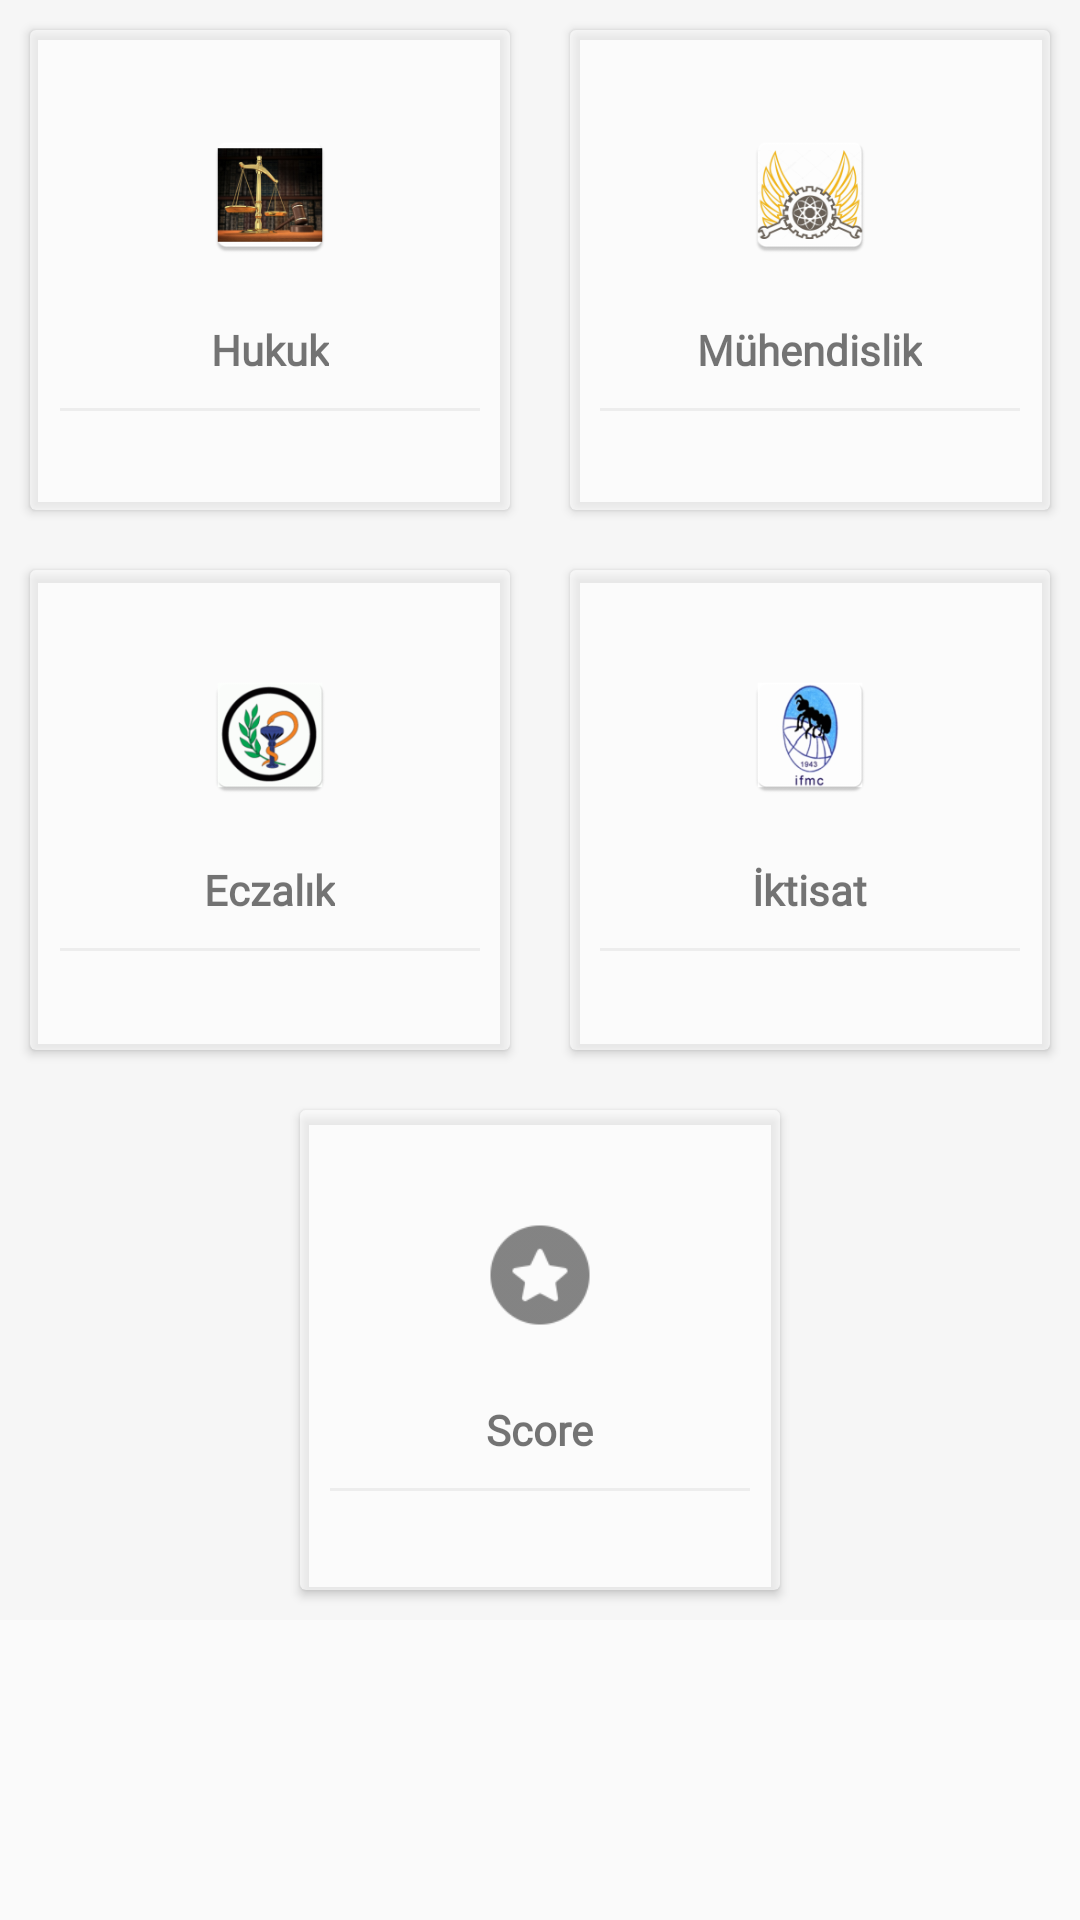

Named icons in this screenshot (1080 × 1920) and their centers, [x,y]:
eczalik: [272,738]
muhendislik: [810,200]
